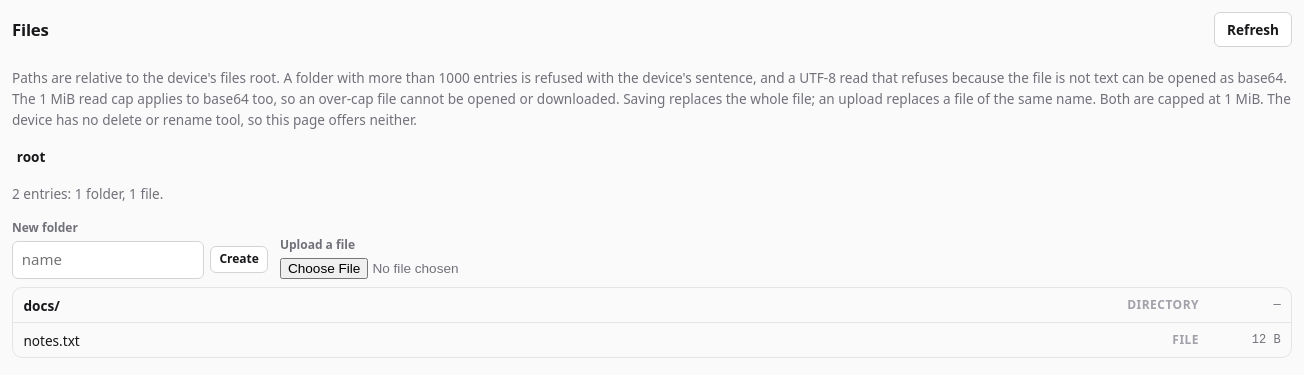
Test: FilesPage listing › lists the root, lists a clicked folder, and the breadcrumb says where the page is
The width and height of the screenshot is (1304, 375).
Expected: the text "2 entries: 1 folder, 1 file." is shown, [12,184,163,203]
Click the button "docs/". click: coordinates (39, 305)
box: [23,293,1118,318]
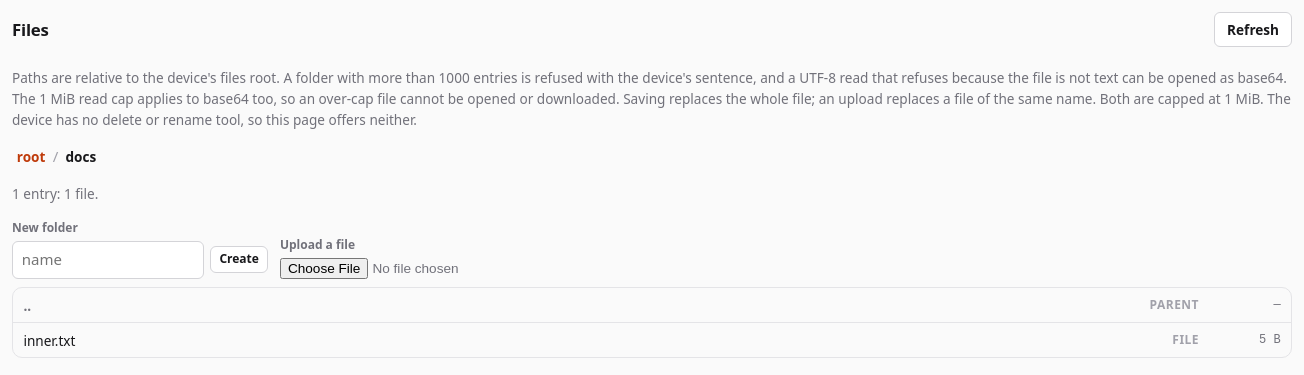
Expected: the button "root" is shown, [12,145,50,169]
Expected: the text "1 entry: 1 file." is shown, [12,184,98,203]
Expected: the button "inner.txt" is shown, [23,328,1163,352]
